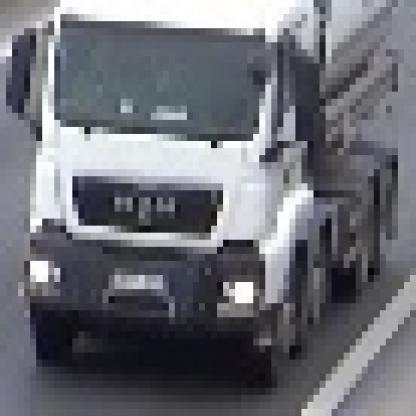truck: (7, 1, 399, 375)
